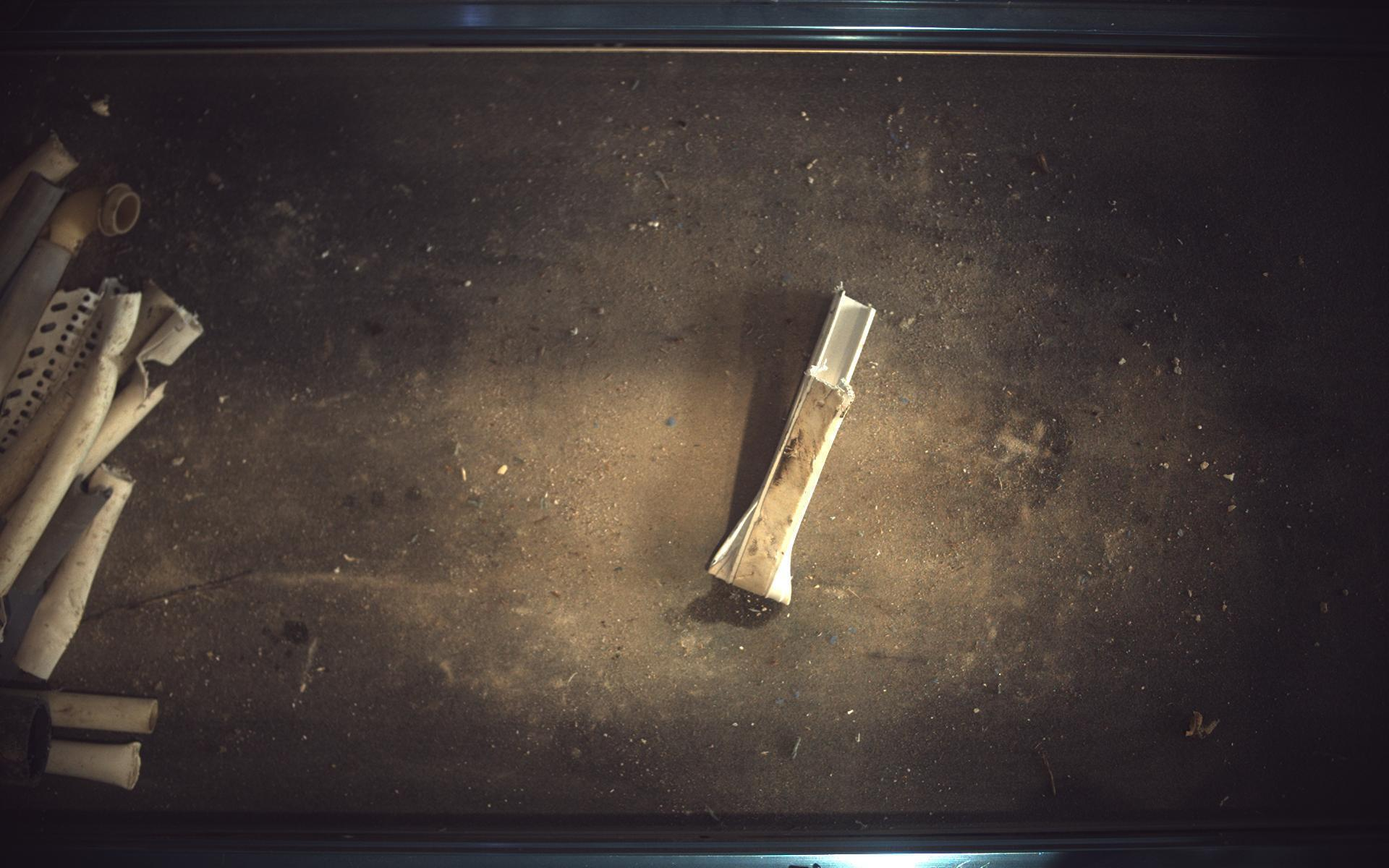plastic: (710, 285, 878, 605)
